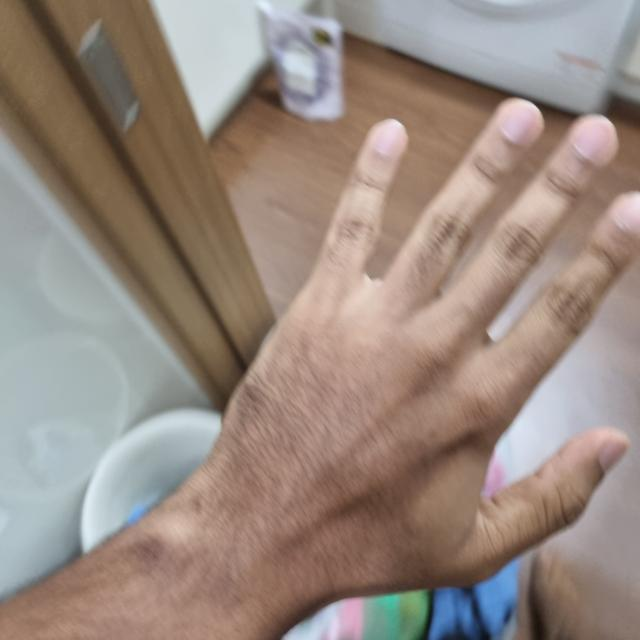Paper: (204, 99, 638, 601)
